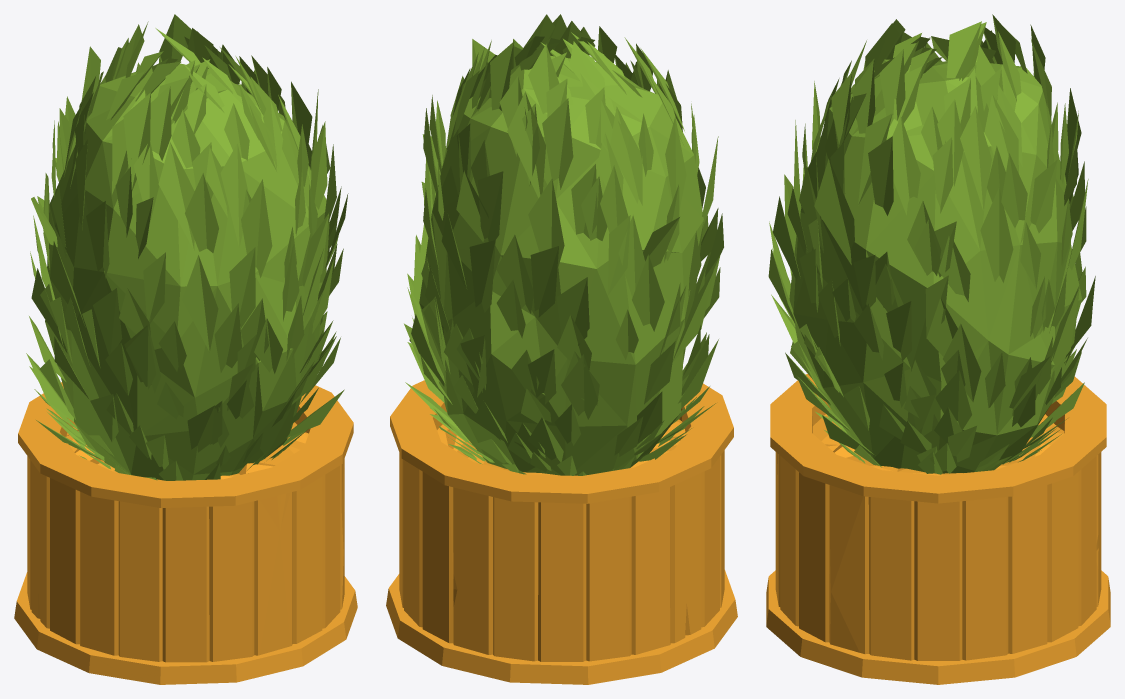
The model's file is SM_City_Planter_Street_B_Bush.fbx.
3 views of the same model, side by side, from view 1: azimuth 30°, elevation 25°; view 2: azimuth 150°, elevation 25°; view 3: azimuth 270°, elevation 25° (orthographic). The views are drawn at different scales.
Parts seen in each view (by area): view 1: SM_City_Planter_Street_B_Bush; view 2: SM_City_Planter_Street_B_Bush; view 3: SM_City_Planter_Street_B_Bush.
Part boxes in pixels (bbox=[...]): SM_City_Planter_Street_B_Bush: bbox=[14, 14, 357, 684]; SM_City_Planter_Street_B_Bush: bbox=[386, 14, 737, 684]; SM_City_Planter_Street_B_Bush: bbox=[766, 14, 1110, 684].
Bounding box in the file's own units: 1.49 × 2.74 × 1.45.
